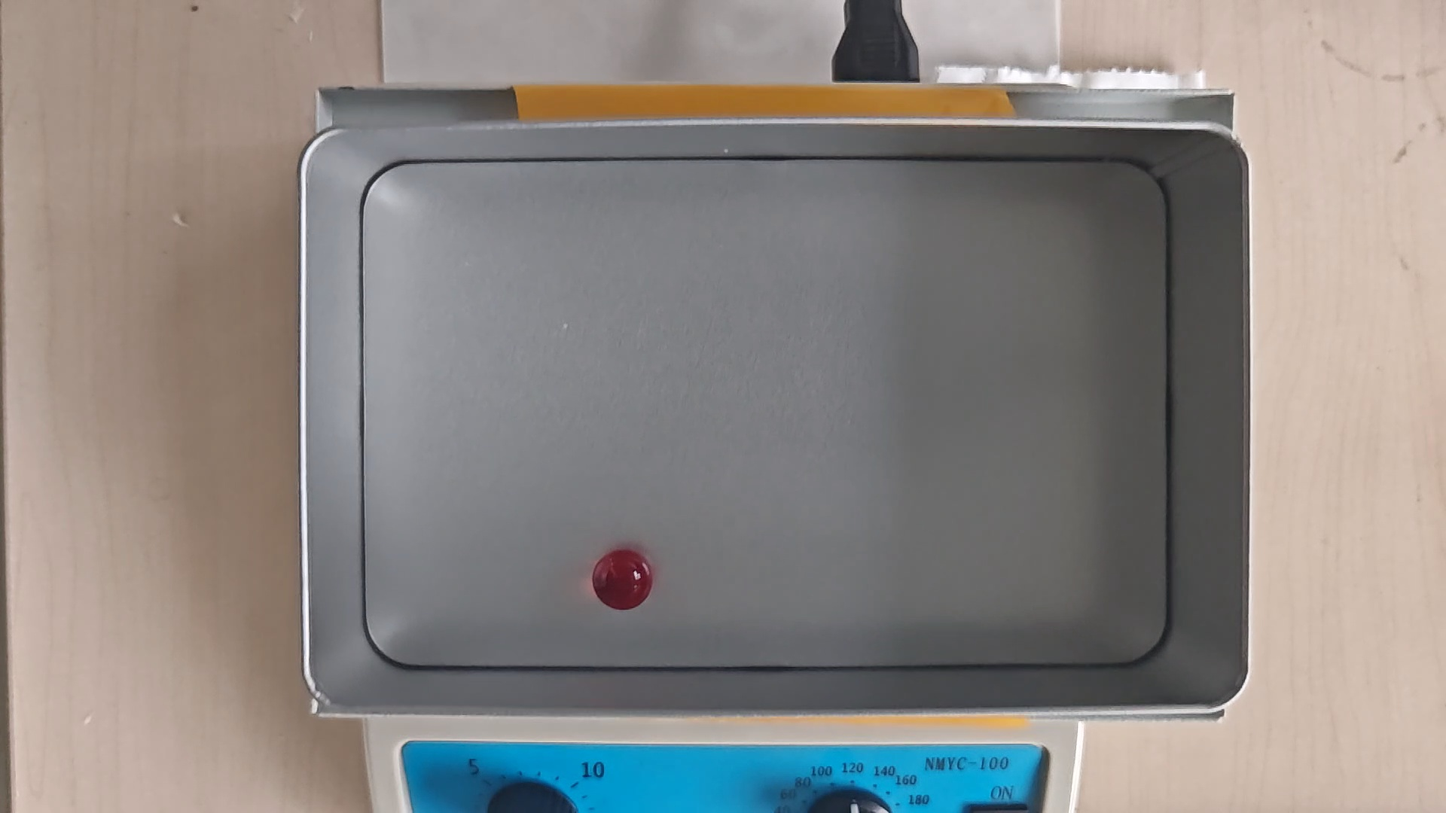ball: (593, 550, 653, 611)
container: (361, 161, 1168, 667)
